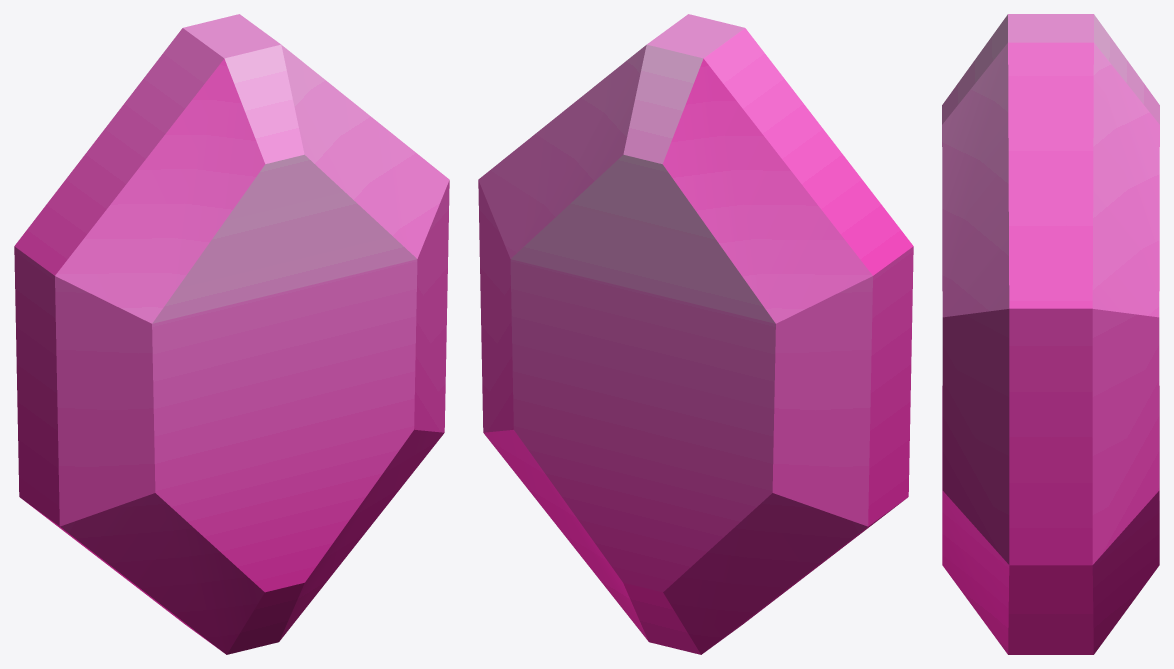
The model's file is Gem_01.fbx.
3 renders of one model, left to right at view 1: azimuth 30°, elevation 25°; view 2: azimuth 150°, elevation 25°; view 3: azimuth 270°, elevation 25°, orthographic. The views are drawn at different scales.
Parts seen in each view (by area): view 1: Jem_Color_01; view 2: Jem_Color_01; view 3: Jem_Color_01.
Boxes of the visible parts, box(x1,y1,x2,y2) form: Jem_Color_01: box(14, 14, 449, 654); Jem_Color_01: box(478, 14, 913, 654); Jem_Color_01: box(942, 14, 1159, 654).
Bounding box in the file's own units: 43.6 × 63.03 × 20.27.
